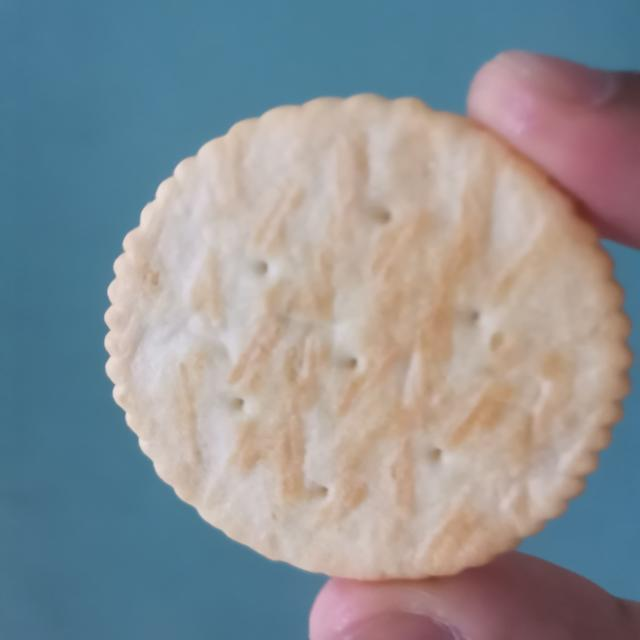Intact: (96, 86, 640, 591)
